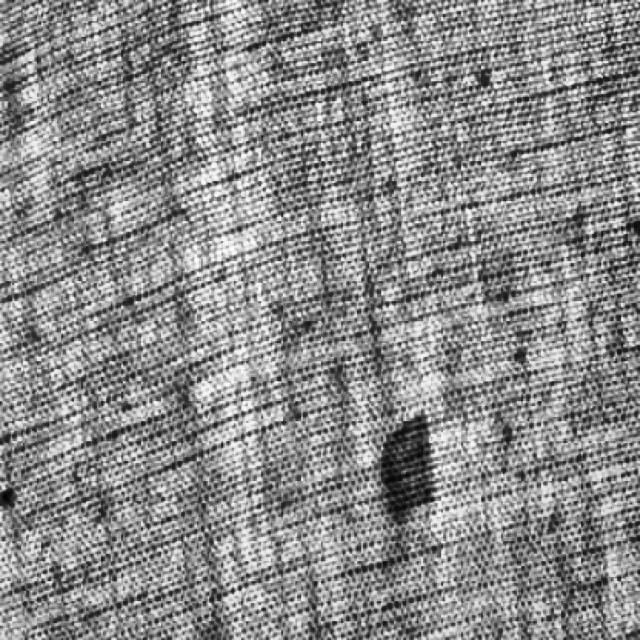oil_spot: (369, 396, 446, 526)
